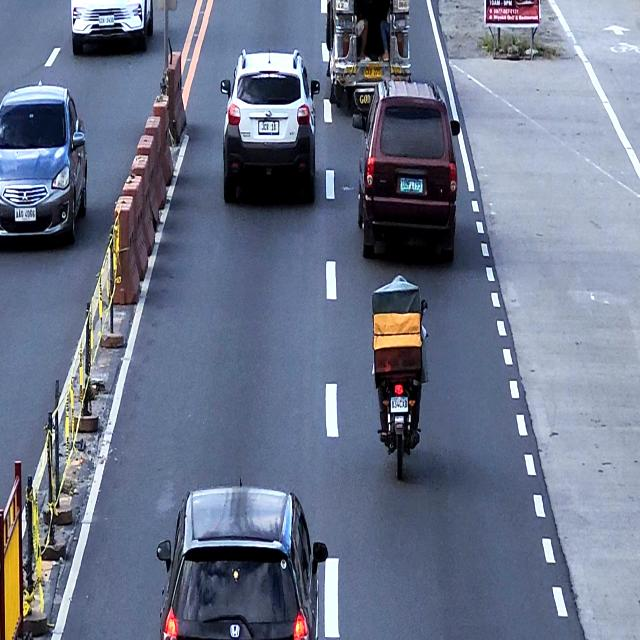Car: (158, 484, 327, 640), (357, 78, 461, 268), (222, 48, 321, 206), (0, 82, 89, 251), (69, 0, 154, 56)
Jeep: (326, 0, 412, 110)
License-Plate: (400, 177, 422, 194), (14, 208, 35, 221), (391, 396, 408, 412), (259, 120, 278, 134), (364, 66, 382, 78), (98, 16, 115, 26)
Motorcycle: (373, 299, 428, 481)
